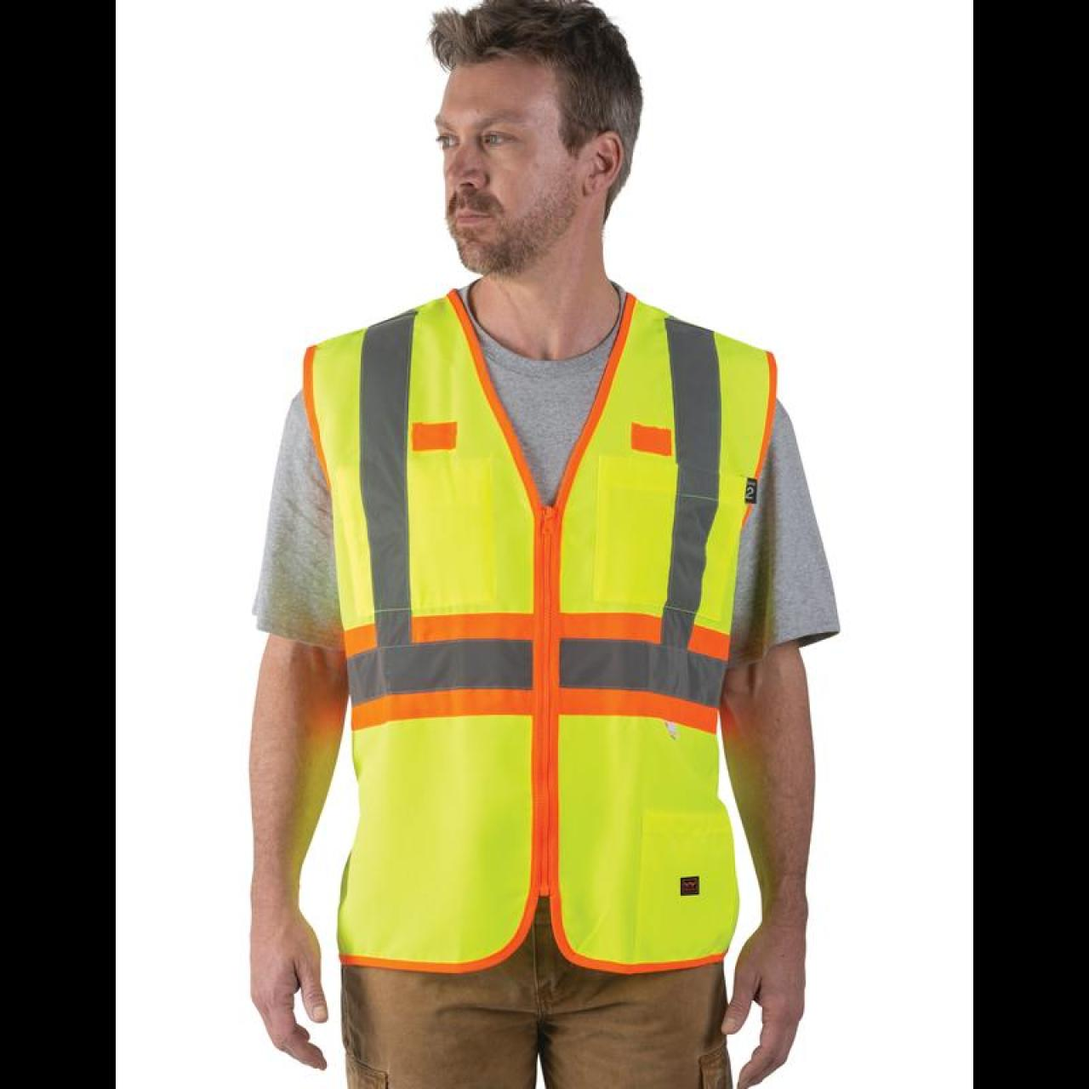Person: (185, 0, 858, 1083)
Safety_Vest: (269, 267, 808, 978)
